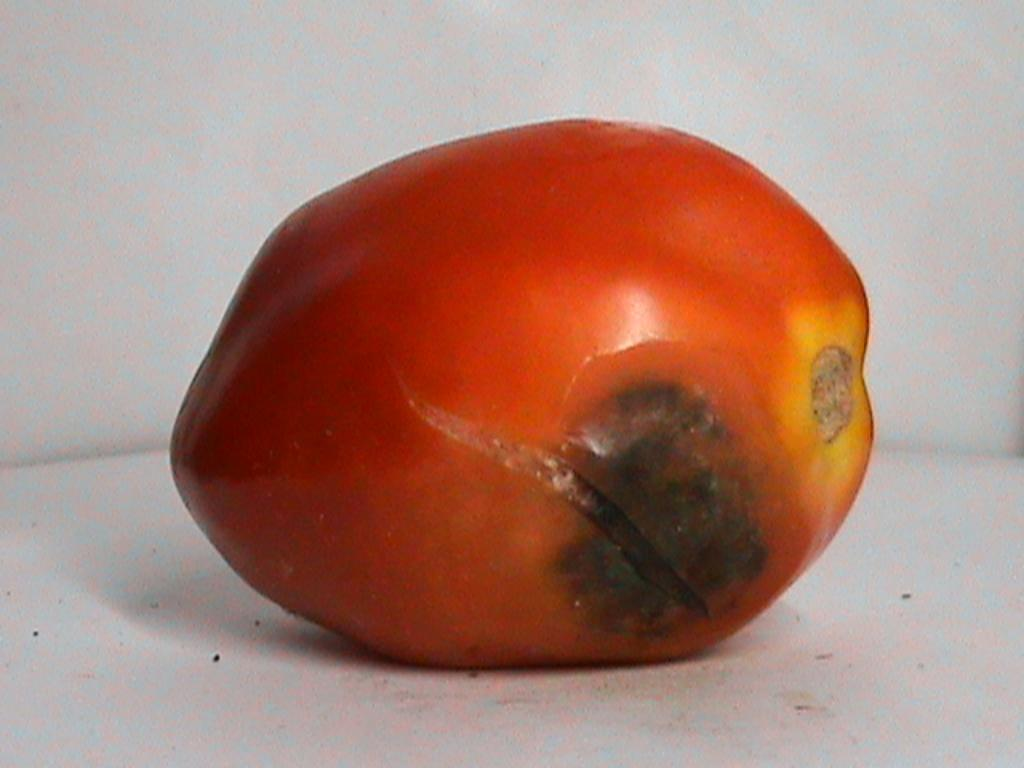bruise_discoloration: (174, 214, 432, 480)
rot_mold_decay: (557, 344, 792, 638)
surface_damage: (400, 379, 706, 614)
tomato: (173, 122, 870, 664)
